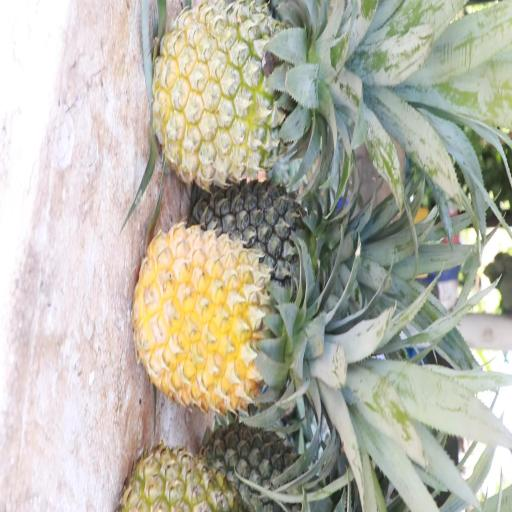------------------------------: (161, 0, 330, 182)
Pineapple - v8 v1: (135, 227, 312, 408)
